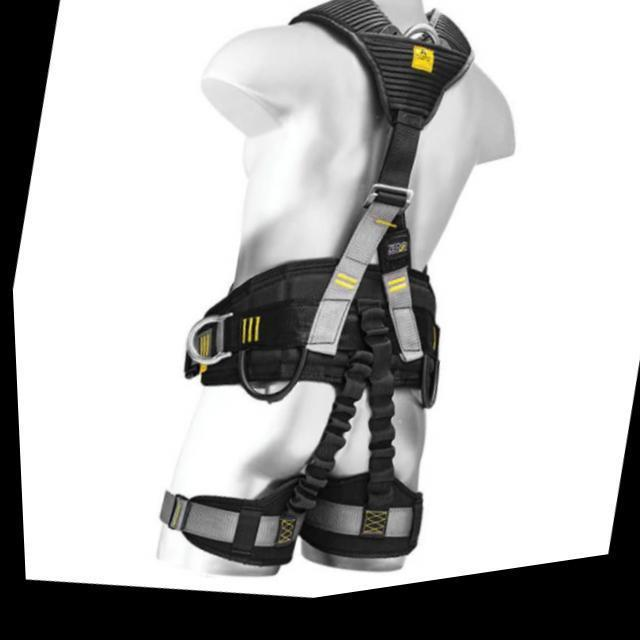Harness: (162, 0, 473, 566)
